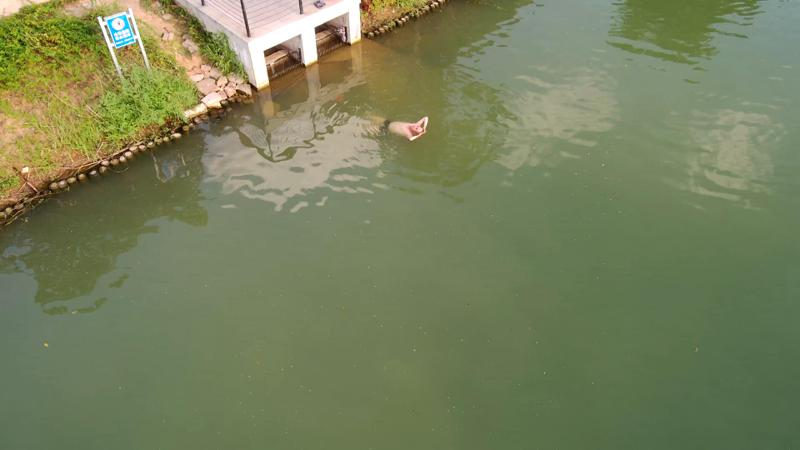swimmers: (363, 114, 429, 142)
